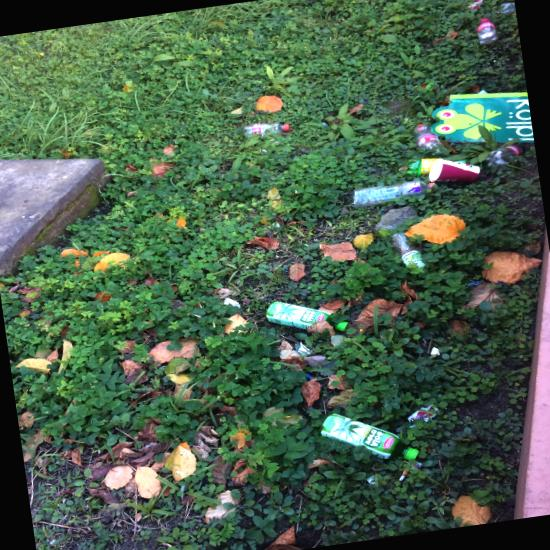Cigarette: (398, 469, 407, 482)
Clear plastic bottle: (318, 413, 419, 460), (264, 301, 348, 331), (353, 180, 435, 206), (389, 231, 425, 268), (486, 145, 523, 167), (244, 121, 289, 138), (412, 124, 442, 148), (405, 158, 438, 175), (477, 18, 497, 44), (500, 2, 515, 13)
Normal paper: (430, 347, 440, 355)
Other carton: (469, 0, 483, 9)
Other plastic: (407, 404, 438, 427), (294, 341, 314, 355)
Paper cup: (428, 158, 480, 182)
Plastic bottle cap: (284, 123, 289, 130), (430, 182, 435, 186)
Unlabeled litter: (430, 91, 534, 142)
